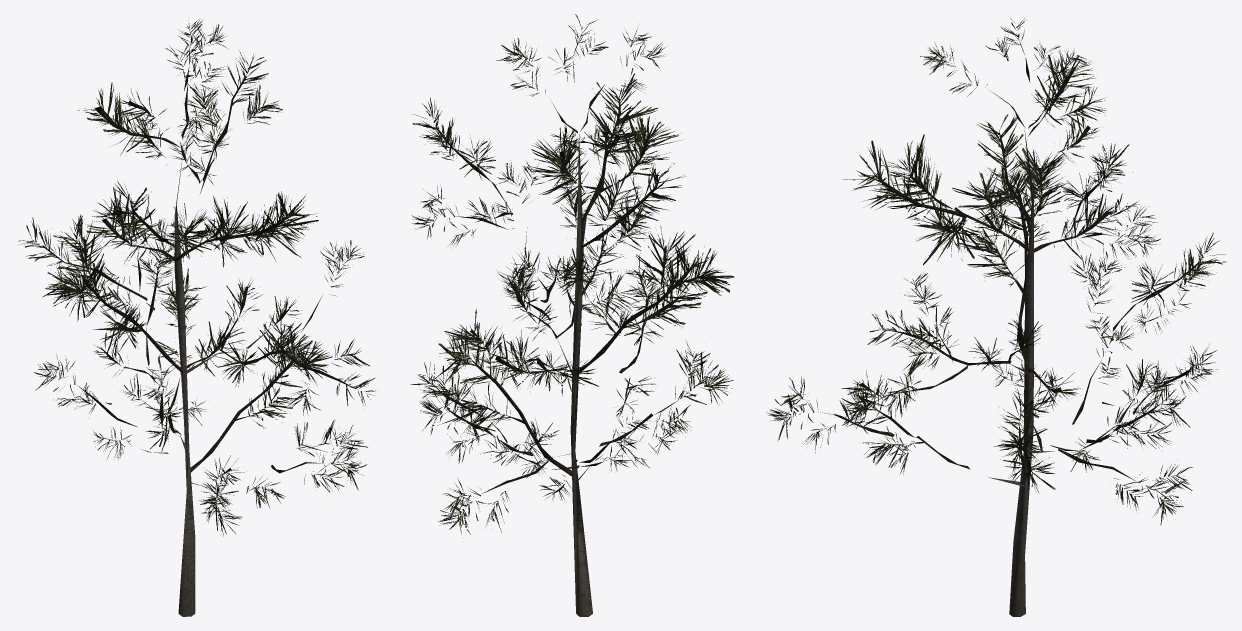
File: pine_sapling_small_b.glb
3 renders of one model, left to right at view 1: azimuth 30°, elevation 25°; view 2: azimuth 150°, elevation 25°; view 3: azimuth 270°, elevation 25°, orthographic. The views are drawn at different scales.
Parts seen in each view (by area): view 1: pine_sapling_small_b__lodS; view 2: pine_sapling_small_b__lodS; view 3: pine_sapling_small_b__lodS.
Boxes of the visible parts, x1,y1,x2,y2 form: pine_sapling_small_b__lodS: (17, 19, 375, 616); pine_sapling_small_b__lodS: (410, 14, 734, 616); pine_sapling_small_b__lodS: (766, 18, 1225, 616).
Size of what is drawn, in the model's own units: 0.5281 by 1.04 by 0.73.
2 materials, 2 textured.
